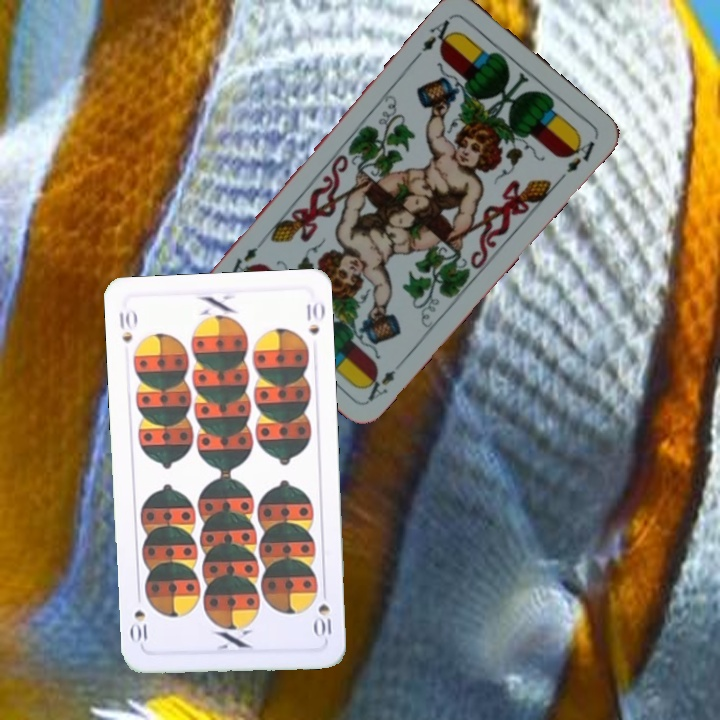EA: (358, 355, 406, 404), (418, 12, 458, 55)
S10: (311, 583, 335, 642), (115, 305, 139, 346)
